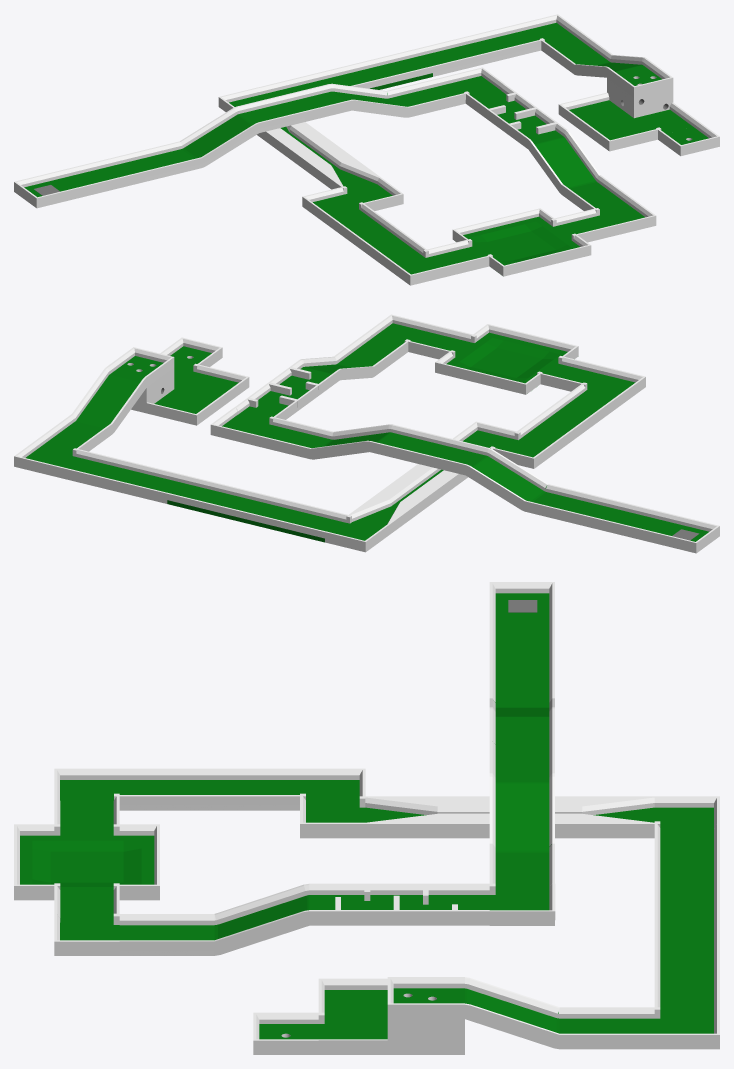
File: Level17.obj
The picture shows the model from 3 angles, top to bottom: view 1: azimuth 30°, elevation 25°; view 2: azimuth 150°, elevation 25°; view 3: azimuth 270°, elevation 25°; orthographic projection. The views are drawn at different scales.
Visible parts, largest first — view 1: polySurface738; view 2: polySurface738; view 3: polySurface738.
Part boxes in pixels (bbox=[...]): polySurface738: bbox=[14, 14, 719, 285]; polySurface738: bbox=[14, 314, 719, 553]; polySurface738: bbox=[14, 582, 719, 1054].
Size of the model in its own units: 34.23 by 3.04 by 24.17.
3 materials, 2 textured.
